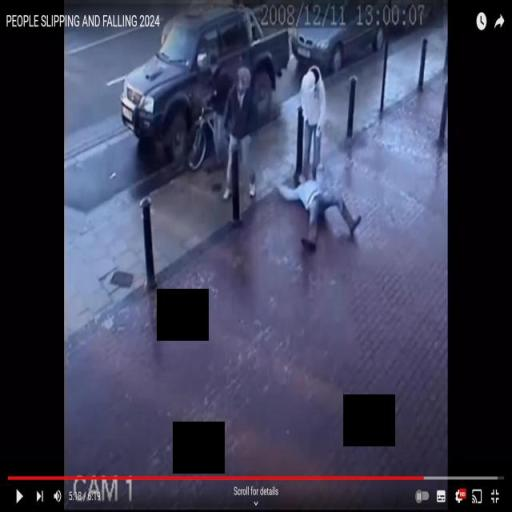Fall: (273, 167, 364, 256)
